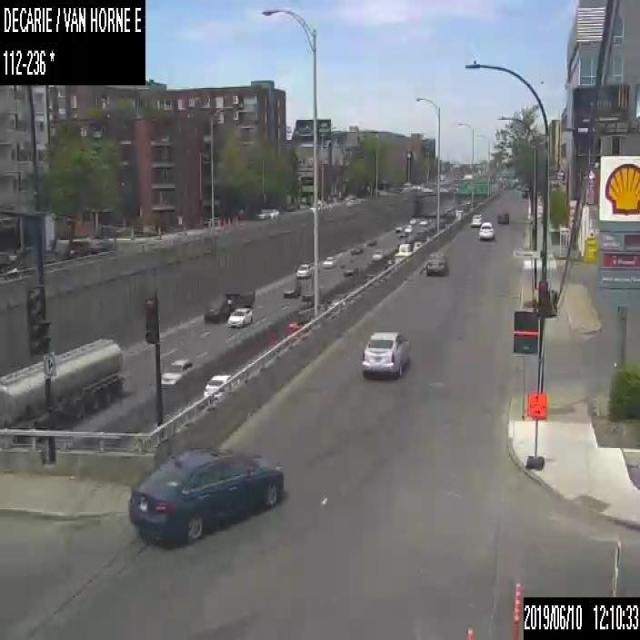construction: (526, 391, 546, 466), (509, 580, 521, 639), (464, 622, 474, 638)
vehicle: (126, 445, 284, 544), (0, 335, 124, 429), (360, 328, 407, 375), (202, 285, 254, 321), (159, 356, 196, 385), (202, 372, 232, 395), (227, 306, 252, 326), (427, 252, 448, 275), (282, 317, 304, 336), (283, 280, 300, 298), (393, 242, 412, 258), (478, 221, 494, 239), (301, 286, 320, 300), (257, 206, 278, 218), (295, 263, 312, 277), (321, 253, 335, 268), (343, 263, 357, 276), (496, 209, 508, 223), (370, 248, 385, 259), (470, 212, 480, 226), (348, 244, 363, 253), (412, 240, 421, 251), (394, 222, 403, 231), (403, 224, 412, 232), (367, 238, 375, 245), (408, 217, 416, 223), (419, 218, 427, 224)
